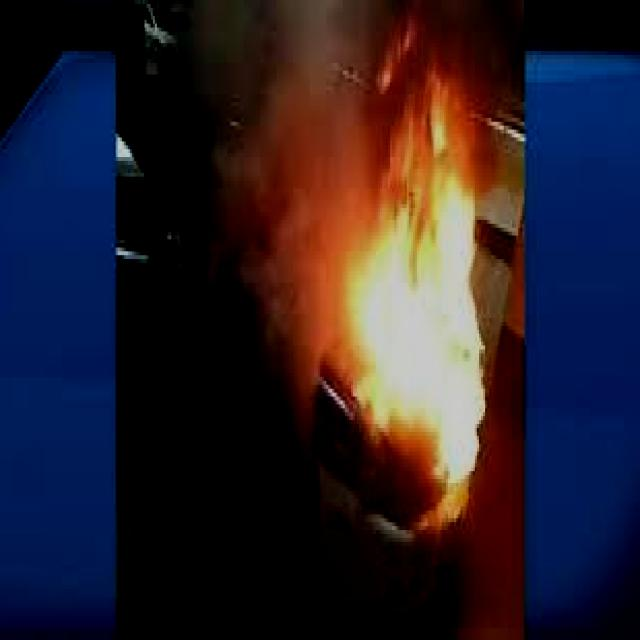fire: (314, 130, 491, 534)
